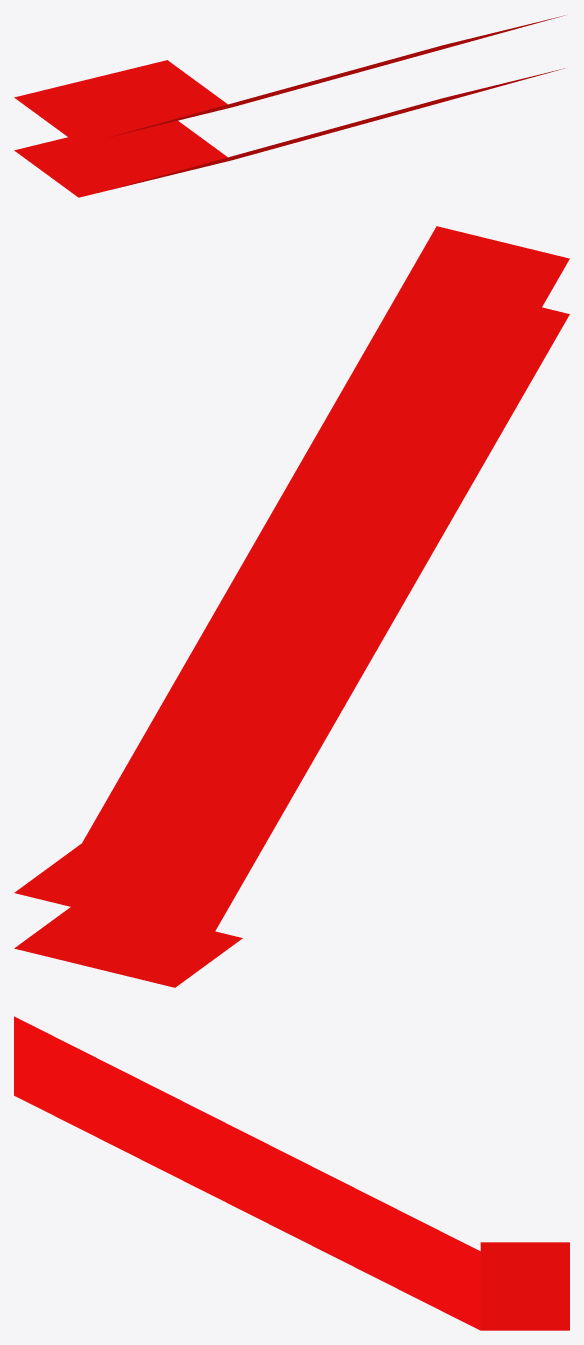
File: FinalMap_Stairs_Collision.FBX
The picture shows the model from 3 angles, top to bottom: view 1: azimuth 30°, elevation 25°; view 2: azimuth 150°, elevation 25°; view 3: azimuth 270°, elevation 25°; orthographic projection. The views are drawn at different scales.
Visible parts, largest first — view 1: FinalMap_Stairs_Collision; view 2: FinalMap_Stairs_Collision; view 3: FinalMap_Stairs_Collision.
Boxes of the visible parts, x1=… form: FinalMap_Stairs_Collision: x1=14, y1=15, x2=564, y2=197; FinalMap_Stairs_Collision: x1=14, y1=226, x2=569, y2=987; FinalMap_Stairs_Collision: x1=14, y1=1016, x2=569, y2=1330.
Size of the model in its own units: 222 by 545 by 1010.
